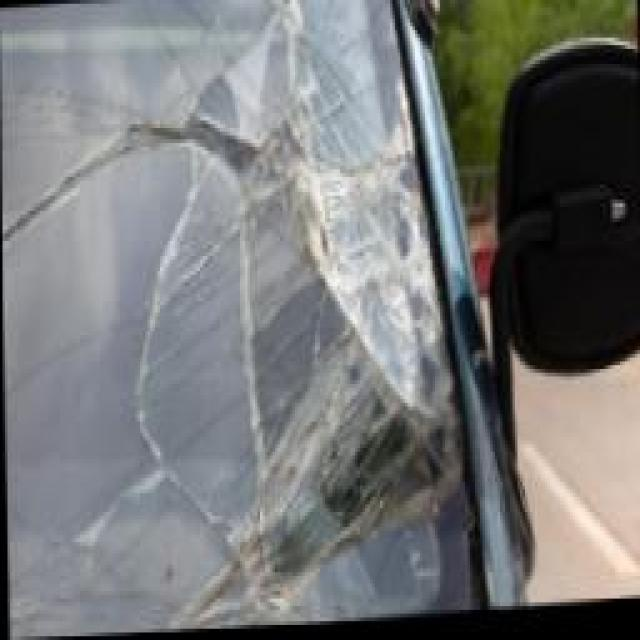Windshield: (0, 0, 445, 640)
